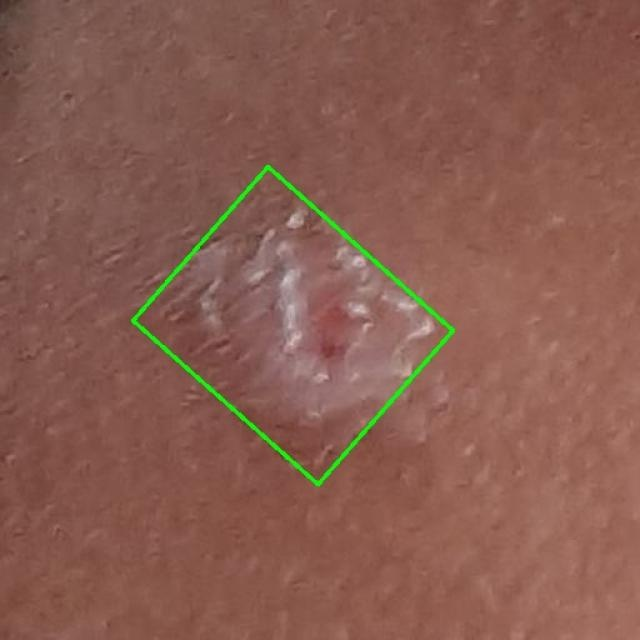Contact Dermatitis: (133, 167, 454, 484)
